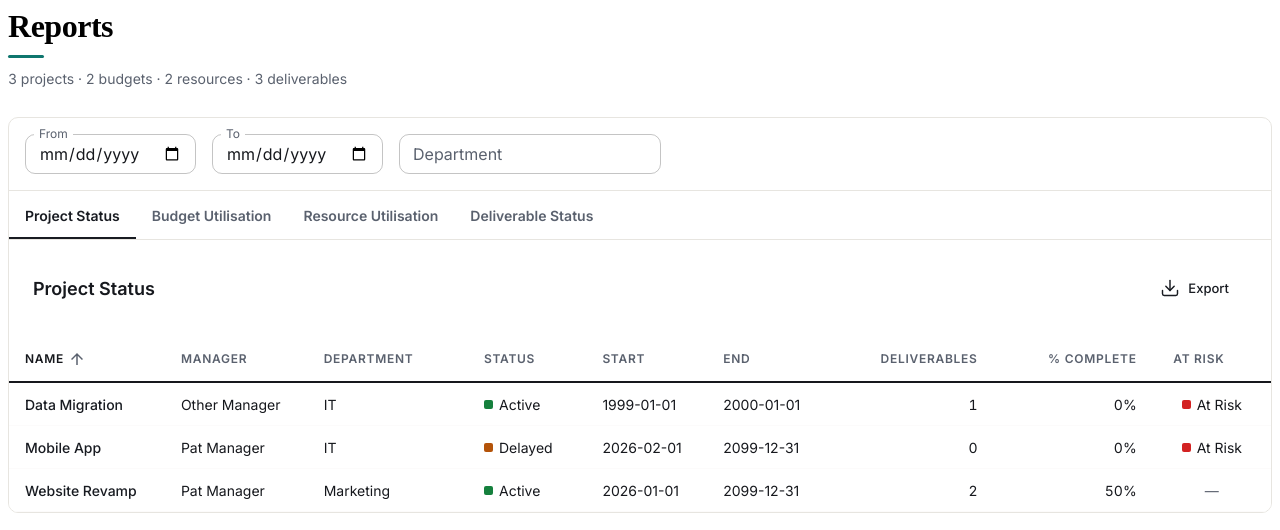
Reports page › resource utilisation report › flags resources allocated beyond their weekly capacity
Expected: the link "Website Revamp" is shown, [25,482,137,499]
Click the tab "Resource Utilisation". click: click(371, 215)
box: [288,191,454,239]
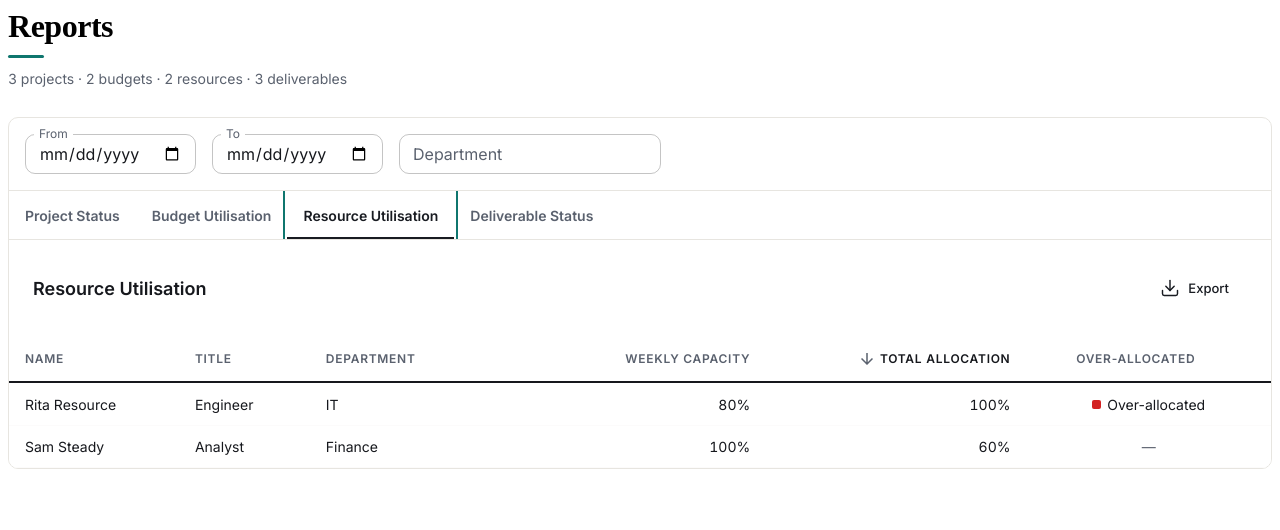
Expected: the text "Engineer" is shown, [179,382,310,426]
Expected: the text "80%" is shown, [514,382,766,426]
Expected: the text "100%" in the row of "Rita Resource" is shown, [970,396,1010,413]
